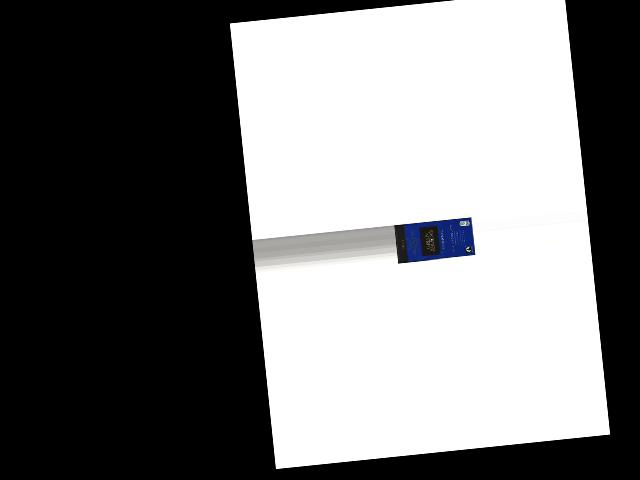chocolate: (394, 216, 474, 263)
